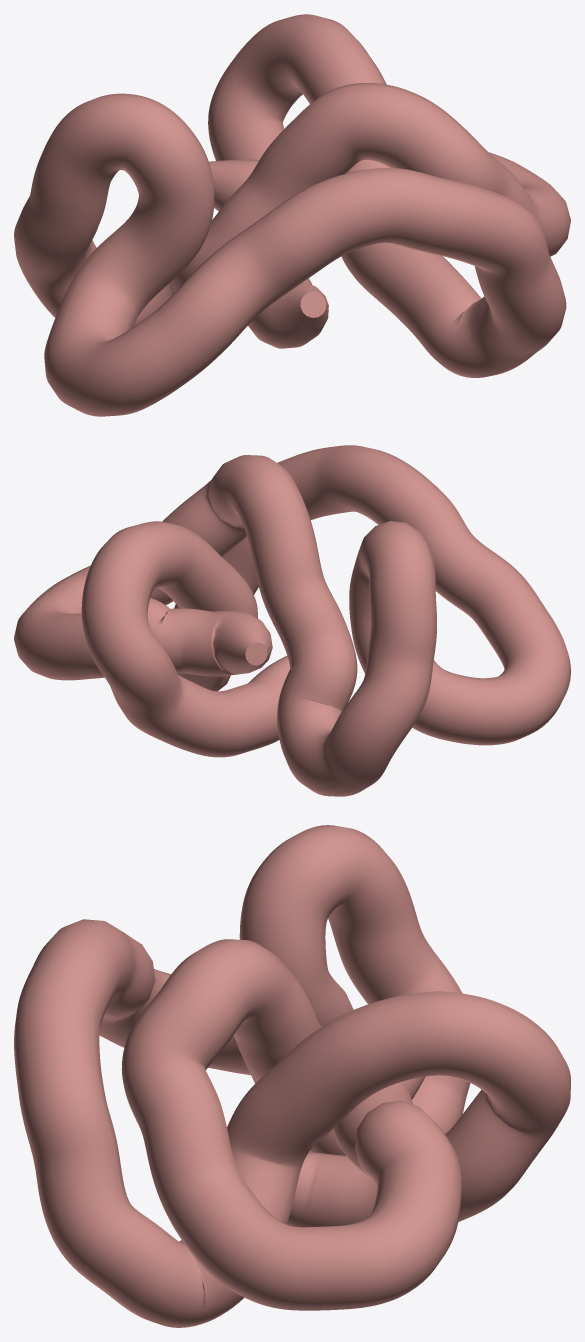
File: bowel.glb
3 views of the same model, one above another, from view 1: azimuth 30°, elevation 25°; view 2: azimuth 150°, elevation 25°; view 3: azimuth 270°, elevation 25° (orthographic). The views are drawn at different scales.
Parts seen in each view (by area): view 1: Bowel; view 2: Bowel; view 3: Bowel.
Boxes of the visible parts, x1,y1,x2,y2 form: Bowel: [14, 14, 570, 416]; Bowel: [14, 445, 570, 796]; Bowel: [14, 825, 570, 1327].
Bounding box in the file's own units: 1.96 × 1.04 × 1.56.
